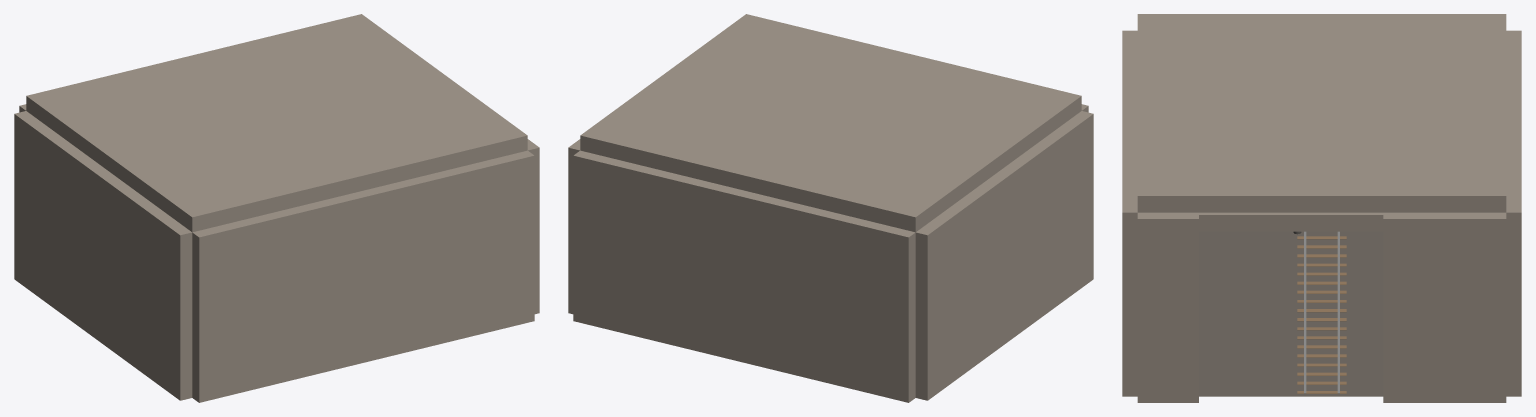
Rendered from environment.glb.
The picture shows the model from 3 angles, left to right: view 1: azimuth 30°, elevation 25°; view 2: azimuth 150°, elevation 25°; view 3: azimuth 270°, elevation 25°; orthographic projection. The views are drawn at different scales.
Parts seen in each view (by area): view 1: pit-start authored environment; view 2: pit-start authored environment; view 3: pit-start authored environment.
Part boxes in pixels (bbox=[...]): pit-start authored environment: bbox=[14, 14, 539, 402]; pit-start authored environment: bbox=[568, 14, 1093, 402]; pit-start authored environment: bbox=[1122, 14, 1521, 402].
Bounding box in the file's own units: 15 × 7.2 × 13.
